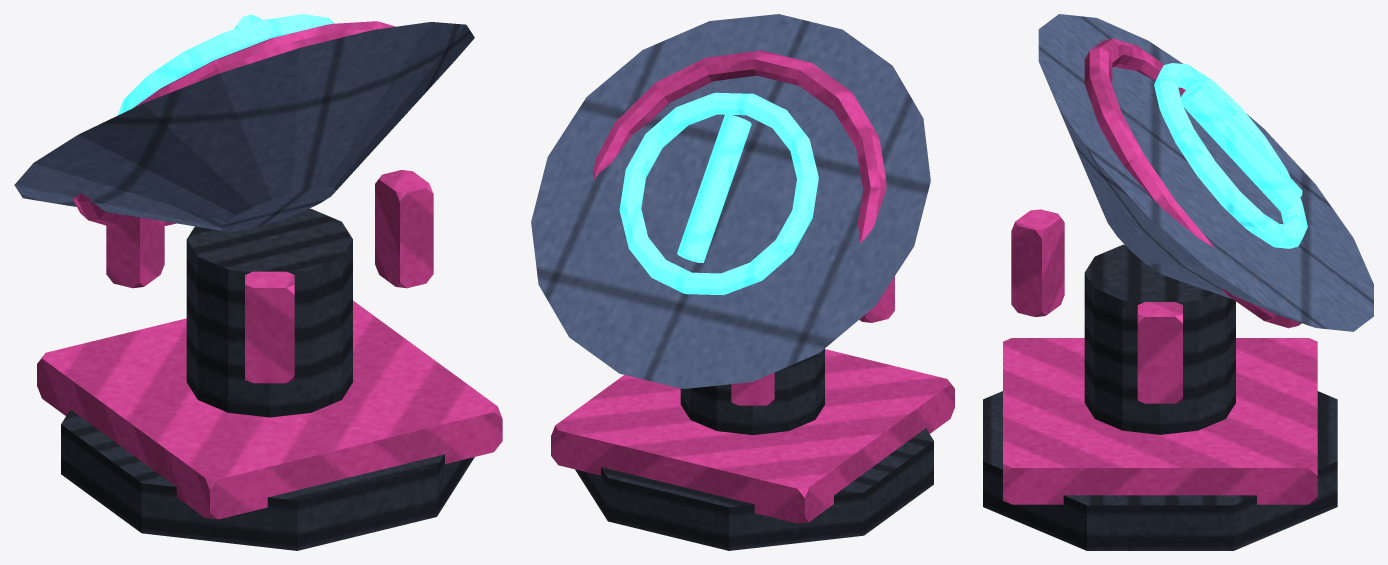
Rendered from eq_magnetic_radar.glb.
The picture shows the model from 3 angles, left to right: view 1: azimuth 30°, elevation 25°; view 2: azimuth 150°, elevation 25°; view 3: azimuth 270°, elevation 25°; orthographic projection. The views are drawn at different scales.
Parts seen in each view (by area): view 1: eq_magnetic_radar; view 2: eq_magnetic_radar; view 3: eq_magnetic_radar.
Part boxes in pixels (x1,y1,x2,y2): eq_magnetic_radar: (14,14,502,550); eq_magnetic_radar: (531,14,954,550); eq_magnetic_radar: (983,14,1373,550).
Bounding box in the file's own units: 1.76 × 1.88 × 1.55.
Materials: 1 (1 with a texture image).
